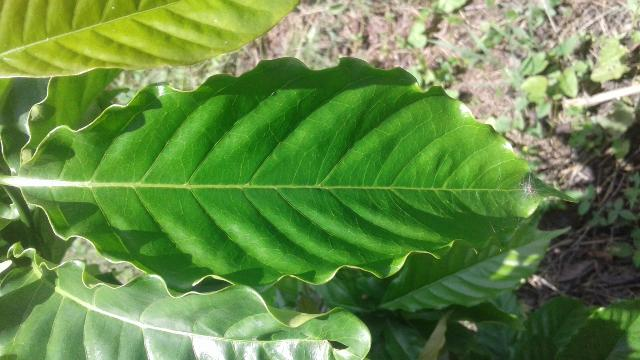healthy: (16, 53, 590, 298)
